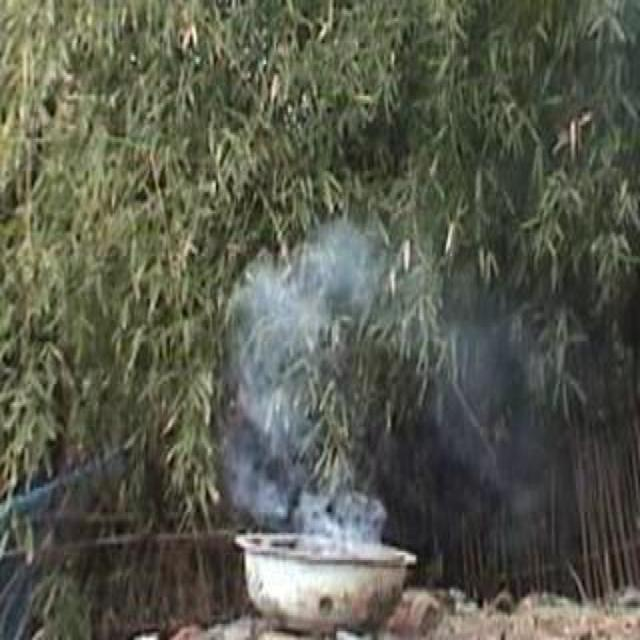Smoke: (222, 216, 388, 562)
